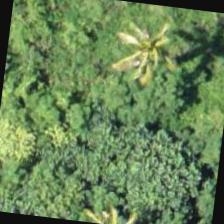Kelapa_Sawit: (99, 0, 199, 93)
